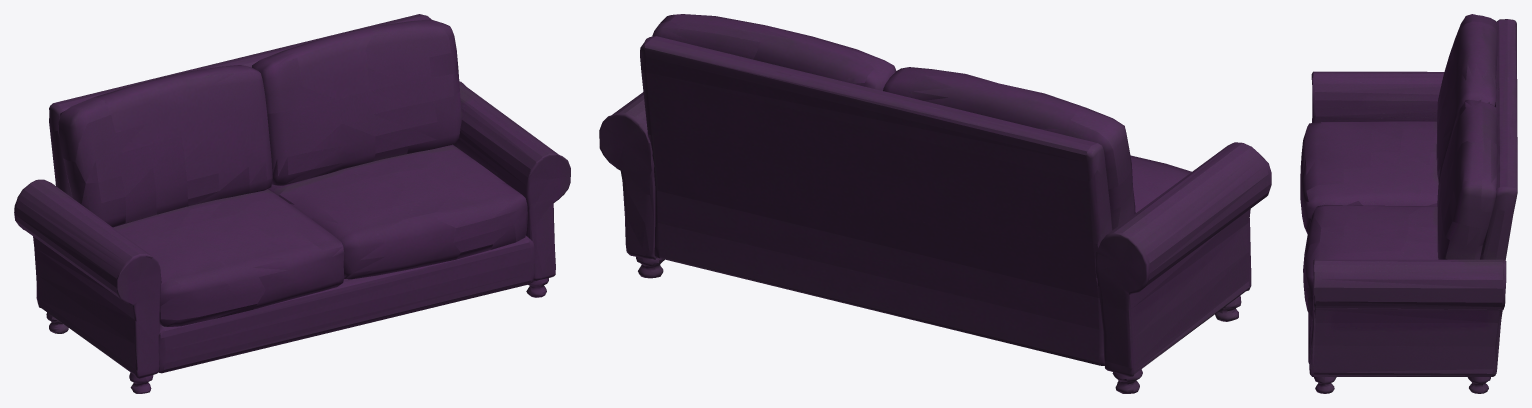
Rendered from sofa-r0.glb.
The picture shows the model from 3 angles, left to right: view 1: azimuth 30°, elevation 25°; view 2: azimuth 150°, elevation 25°; view 3: azimuth 270°, elevation 25°; orthographic projection. The views are drawn at different scales.
Size of the model in its own units: 1 by 0.4756 by 0.4434.
1 material, 1 textured.
